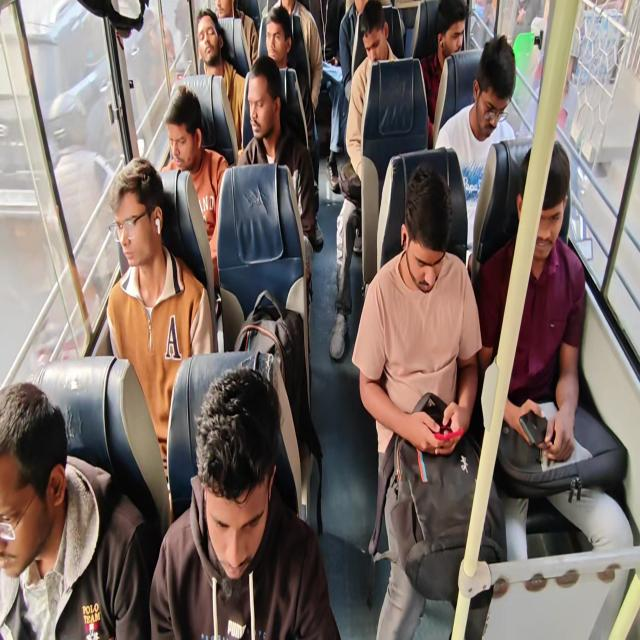person: (473, 139, 634, 636), (351, 163, 506, 638), (149, 365, 341, 639), (0, 381, 154, 638), (106, 157, 214, 497), (329, 1, 399, 360), (434, 34, 516, 271), (237, 55, 318, 253), (159, 85, 229, 288), (308, 0, 347, 192), (194, 8, 246, 150), (419, 0, 469, 139), (263, 5, 309, 146), (212, 0, 259, 75), (338, 0, 369, 104)
